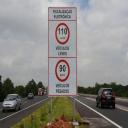speed_limit_110: (55, 22, 70, 45)
